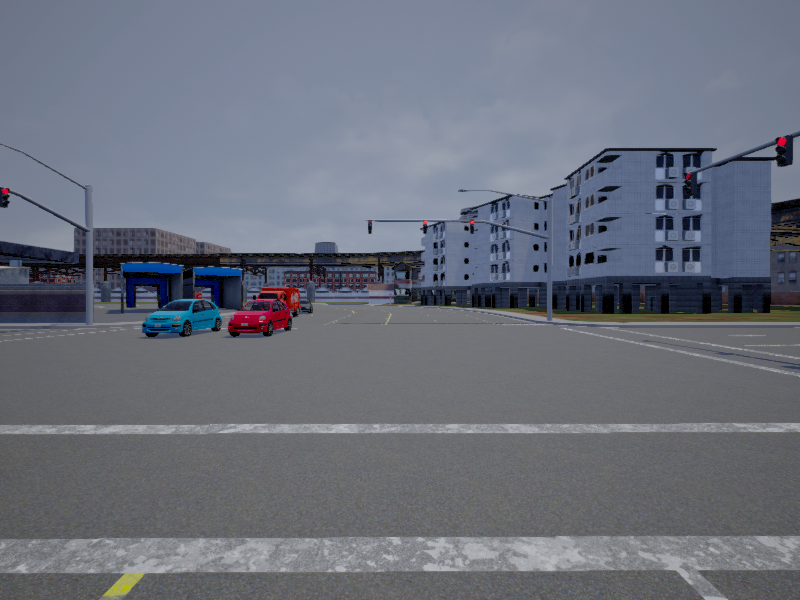Benign: (146, 298, 221, 335), (230, 299, 293, 335), (254, 287, 301, 320)
